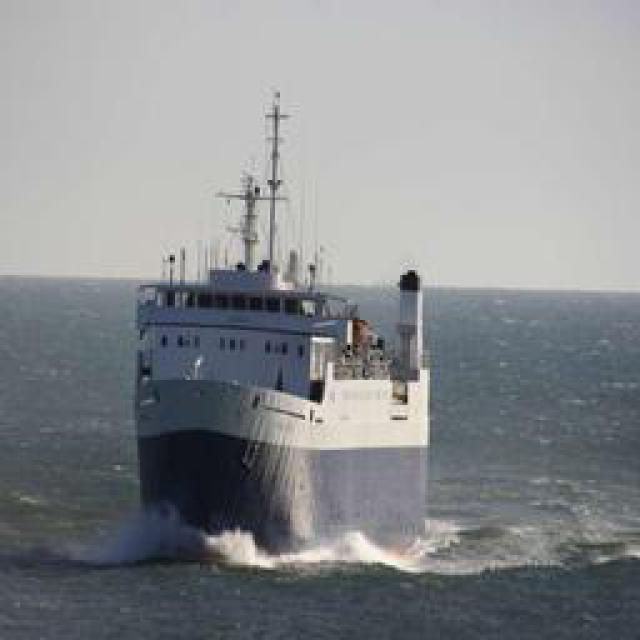Ship: (120, 79, 445, 572)
